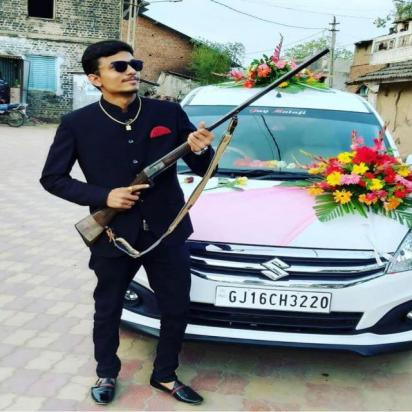Gun: (72, 45, 334, 250)
